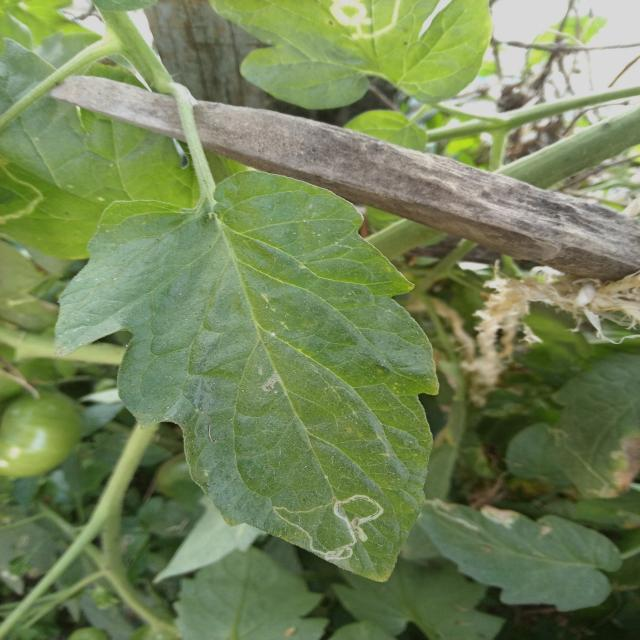Tuta absoluta: (273, 491, 391, 569)
